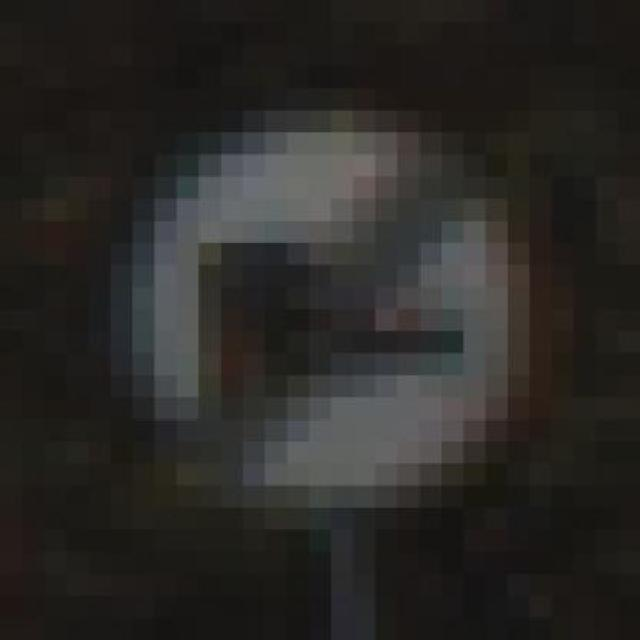Overtaking by trucks is prohibited: (66, 66, 574, 552)
